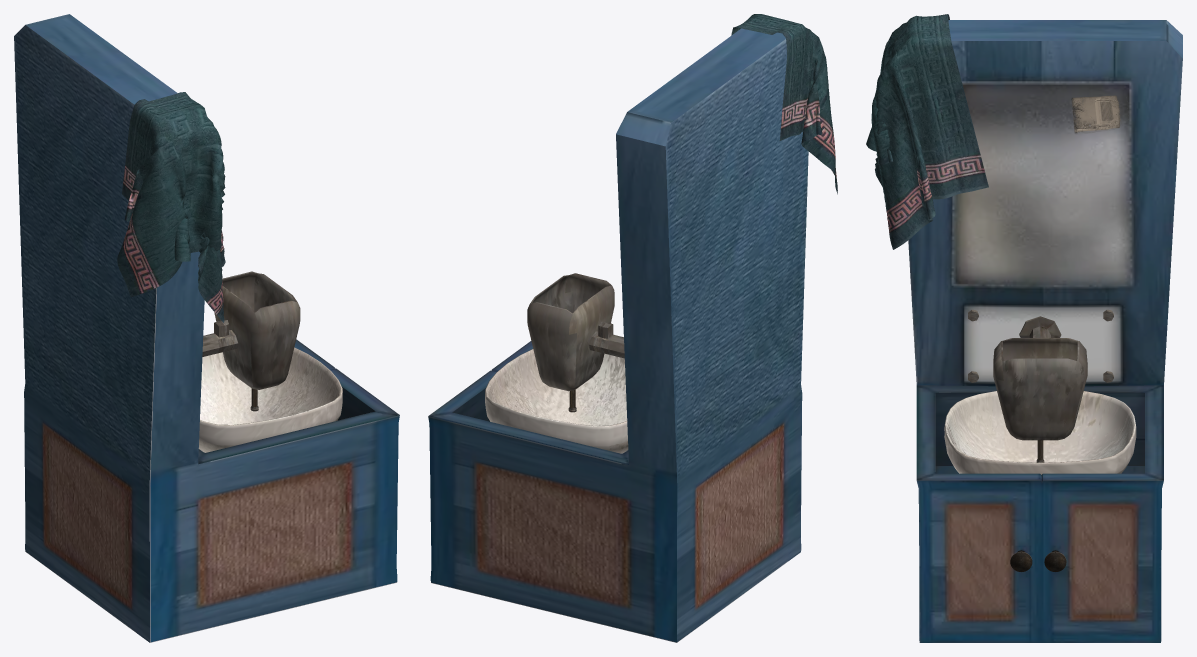
File: s_aguamanil.glb
3 views of the same model, side by side, from view 1: azimuth 30°, elevation 25°; view 2: azimuth 150°, elevation 25°; view 3: azimuth 270°, elevation 25° (orthographic). The views are drawn at different scales.
Parts seen in each view (by area): view 1: Object_10; view 2: Object_10; view 3: Object_10.
Part boxes in pixels (x1,y1,x2,y2): Object_10: (14, 14, 399, 642); Object_10: (428, 14, 837, 642); Object_10: (866, 14, 1182, 642).
Size of the model in its own units: 0.5823 by 1 by 0.5587.
6 materials, 6 textured.
